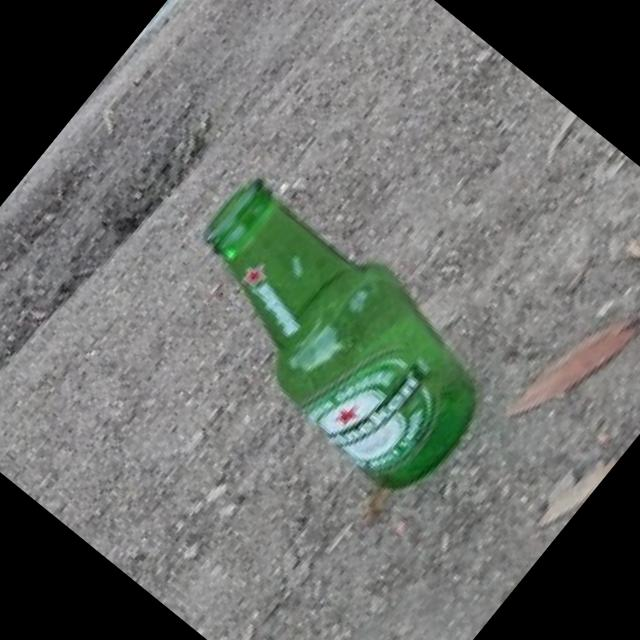BotolKaca: (146, 160, 518, 510)
